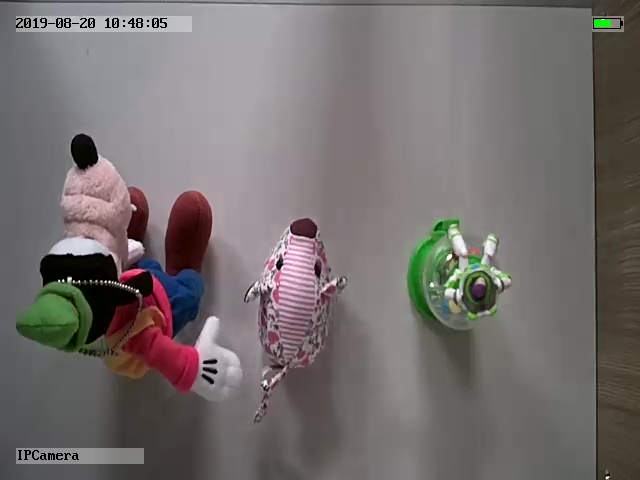buzz: (401, 218, 515, 336)
goofy: (16, 130, 245, 407)
pig: (243, 212, 352, 426)
